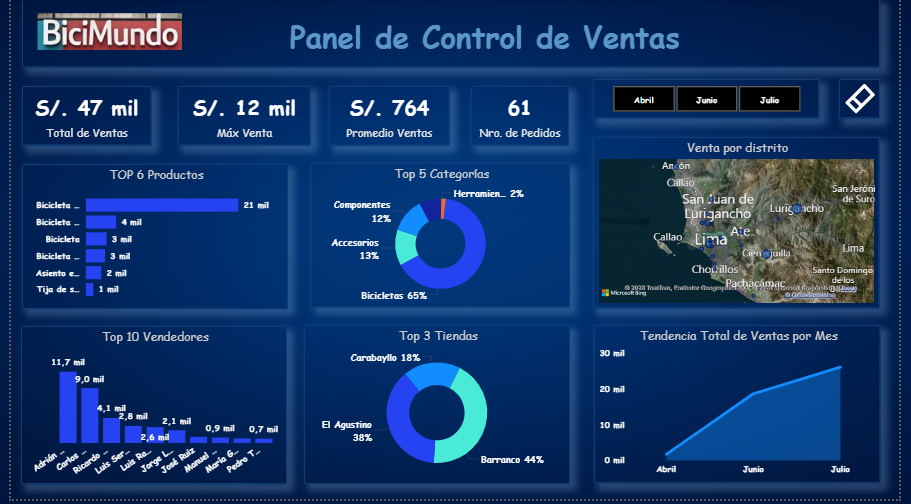

Layout of this report page (visuals, bound fields, positions):
{"tool":"powerbi","page":{"name":"Página 1","canvas":[1280,720],"ordinal":0},"visuals":[{"type":"slicer","fields":{"Values":["Dim_Fecha.Fecha.Variación.Jerarquía de fechas.Mes"]},"box":[838.2,115.9,325.9,57.1],"z":0},{"type":"card","fields":{"Values":["Fact_Ventas.Total Ventas (Soles)"]},"box":[15.7,125.7,187.1,85.7],"z":1000},{"type":"card","fields":{"Values":["Fact_Ventas.Max Venta"]},"box":[240,125.7,191.4,85.7],"z":2000},{"type":"card","fields":{"Values":["Fact_Ventas.Promedio Ventas"]},"box":[458.6,125.7,174.3,85.7],"z":3000},{"type":"card","fields":{"Values":["Fact_Ventas.Nro. Pedidos"]},"box":[662.9,125.7,141.4,85.7],"z":4000},{"type":"actionButton","box":[1192.7,115.9,58.8,57.1],"z":5000},{"type":"image","box":[33.6,15.1,218.4,65.5],"z":6000},{"type":"donutChart","title":"Top 5 Categorías ","fields":{"Category":["Dim_Productos.categoria"],"Y":["Fact_Ventas.Total Venta"]},"box":[431.7,236.9,372.9,208.3],"z":7000},{"type":"pieChart","title":"Top 3 Tiendas","fields":{"Y":["Fact_Ventas.Total Venta"],"Category":["Dim_Vendedores.LocalSinTienda"]},"box":[421.4,470,382.9,228.6],"z":8000},{"type":"textbox","box":[15.7,0,1235.7,98.6],"z":9000},{"type":"map","title":"Venta por distrito","fields":{"Category":["Dim_Clientes.distrito"],"Size":["Fact_Ventas.Total Venta"]},"box":[838.6,198.6,412.9,247.1],"z":10000},{"type":"clusteredColumnChart","title":"Top 10 Vendedores","fields":{"Category":["Dim_Clientes.nombre_completo"],"Y":["Fact_Ventas.Total Venta"]},"box":[15.1,470.3,383,228.5],"z":11000},{"type":"barChart","title":"TOP 6 Productos","fields":{"Category":["Dim_Productos.nombre_producto"],"Y":["Fact_Ventas.Total Venta"]},"box":[15.7,237.1,382.9,208.6],"z":12000},{"type":"lineChart","title":"Tendencia Total de Ventas por Mes","fields":{"Y":["Fact_Ventas.Total Venta"],"Category":["Dim_Fecha.Fecha.Variación.Jerarquía de fechas.Mes"]},"box":[839,470,413,228],"z":13000}]}

Visuals, with their boxes in screenshot pixels (x1, y1, x2, y2), scaled from the page's 1280x720 canvas onto the 911x504 screenshot:
slicer - Dim_Fecha.Fecha.Variación.Jerarquía de fechas.Mes: <region>597, 81, 829, 121</region>
card - Fact_Ventas.Total Ventas (Soles): <region>11, 88, 144, 148</region>
card - Fact_Ventas.Max Venta: <region>171, 88, 307, 148</region>
card - Fact_Ventas.Promedio Ventas: <region>326, 88, 450, 148</region>
card - Fact_Ventas.Nro. Pedidos: <region>472, 88, 572, 148</region>
actionButton: <region>849, 81, 891, 121</region>
image: <region>24, 11, 179, 56</region>
"Top 5 Categorías " donutChart: <region>307, 166, 573, 312</region>
"Top 3 Tiendas" pieChart: <region>300, 329, 572, 489</region>
textbox: <region>11, 0, 891, 69</region>
"Venta por distrito" map: <region>597, 139, 891, 312</region>
"Top 10 Vendedores" clusteredColumnChart: <region>11, 329, 283, 489</region>
"TOP 6 Productos" barChart: <region>11, 166, 284, 312</region>
"Tendencia Total de Ventas por Mes" lineChart: <region>597, 329, 891, 489</region>
